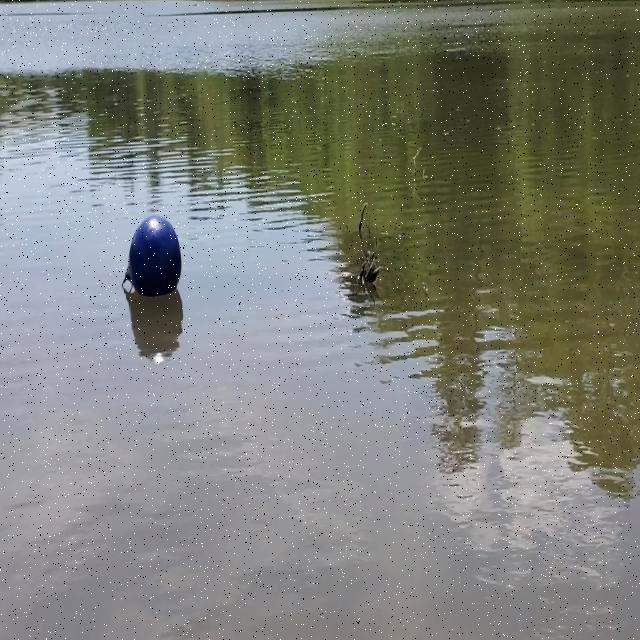buoy: (120, 214, 183, 300)
